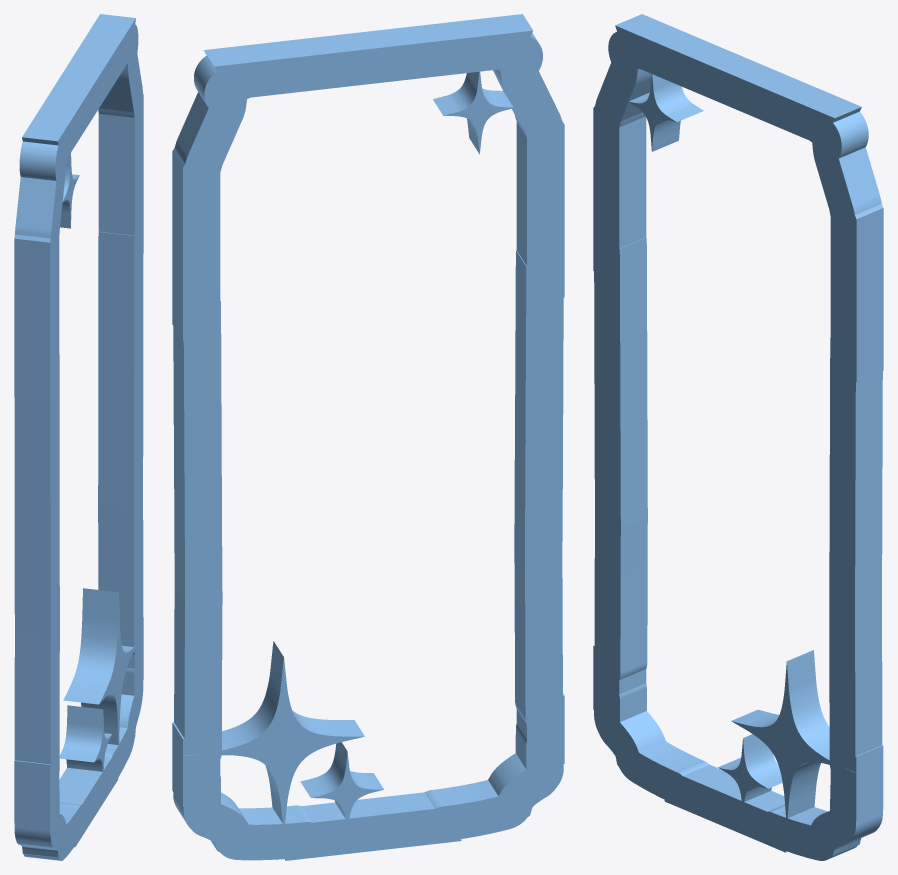
Rendered from can-outline2.glb.
3 views of the same model, side by side, from view 1: azimuth 30°, elevation 25°; view 2: azimuth 150°, elevation 25°; view 3: azimuth 270°, elevation 25° (orthographic). The views are drawn at different scales.
Bounding box in the file's own units: 21.32 × 61.27 × 21.32.
